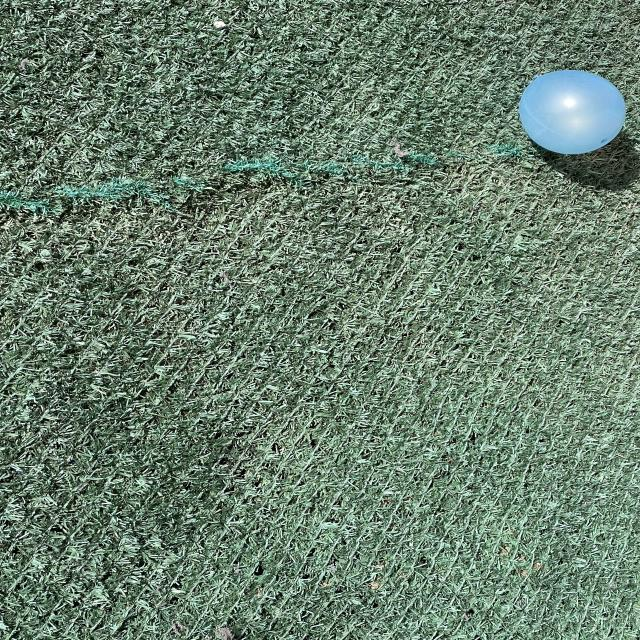balloon: (519, 70, 625, 154)
